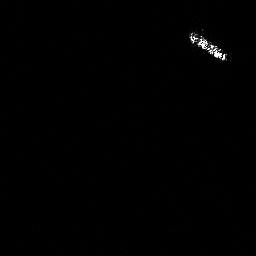ship: (187, 28, 231, 65)
